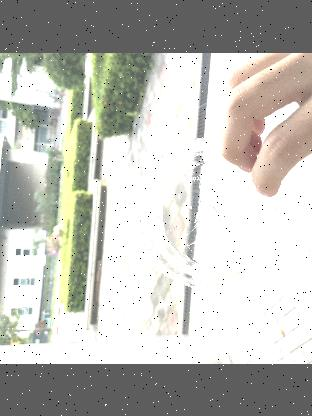Others: (129, 136, 289, 297)
